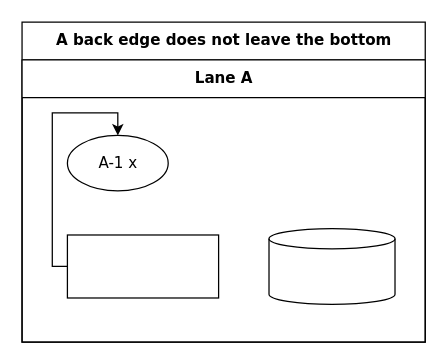
Image size: 447x364. Some labels were removed from this diagram. The shapes that lost their labels are listed below. From the top down, each one's box as (x1, y1, x2, y2) in pixels, then its label:
(66, 234, 219, 298): A-3 x
(268, 227, 395, 304): d0
